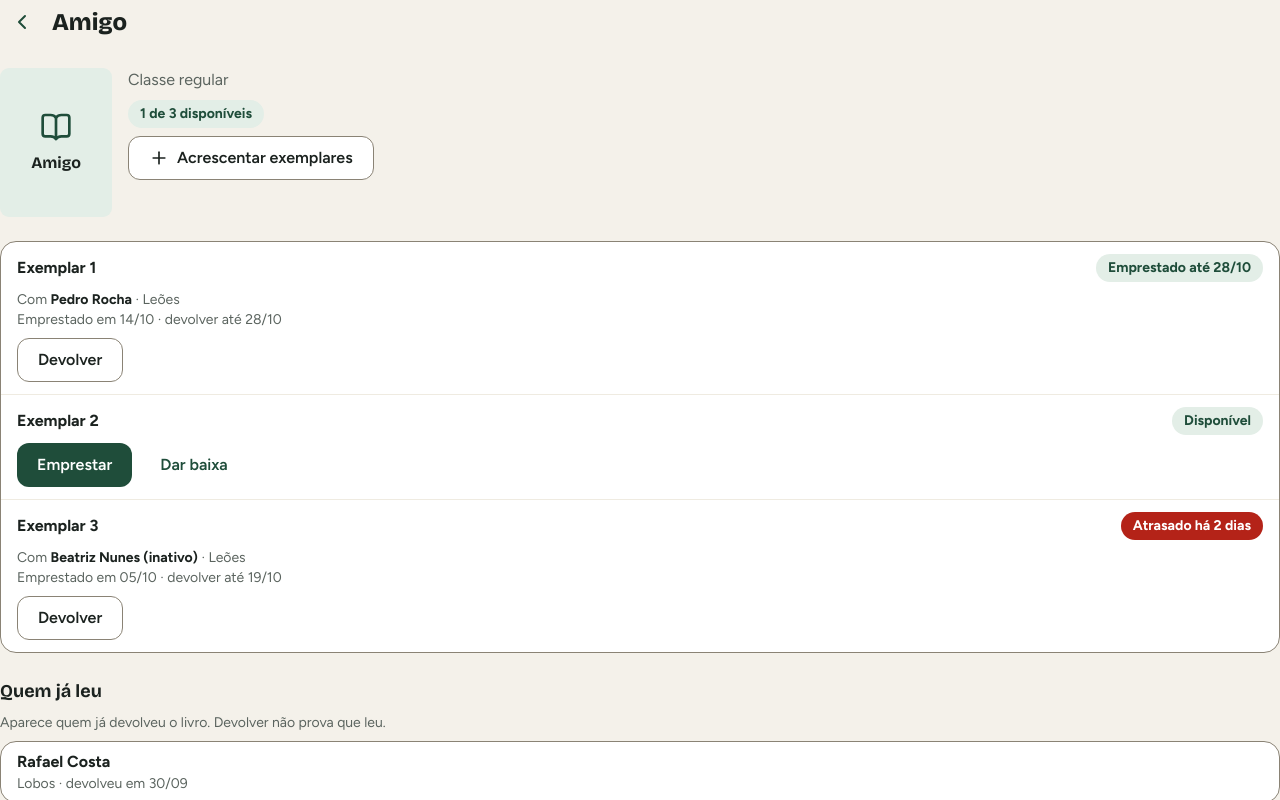
Test case: detalhe do livro › Dar baixa pede confirmação e só então grava
Click the button with aria-label "Dar baixa no exemplar 2" at (194, 465), box [140, 443, 248, 487]
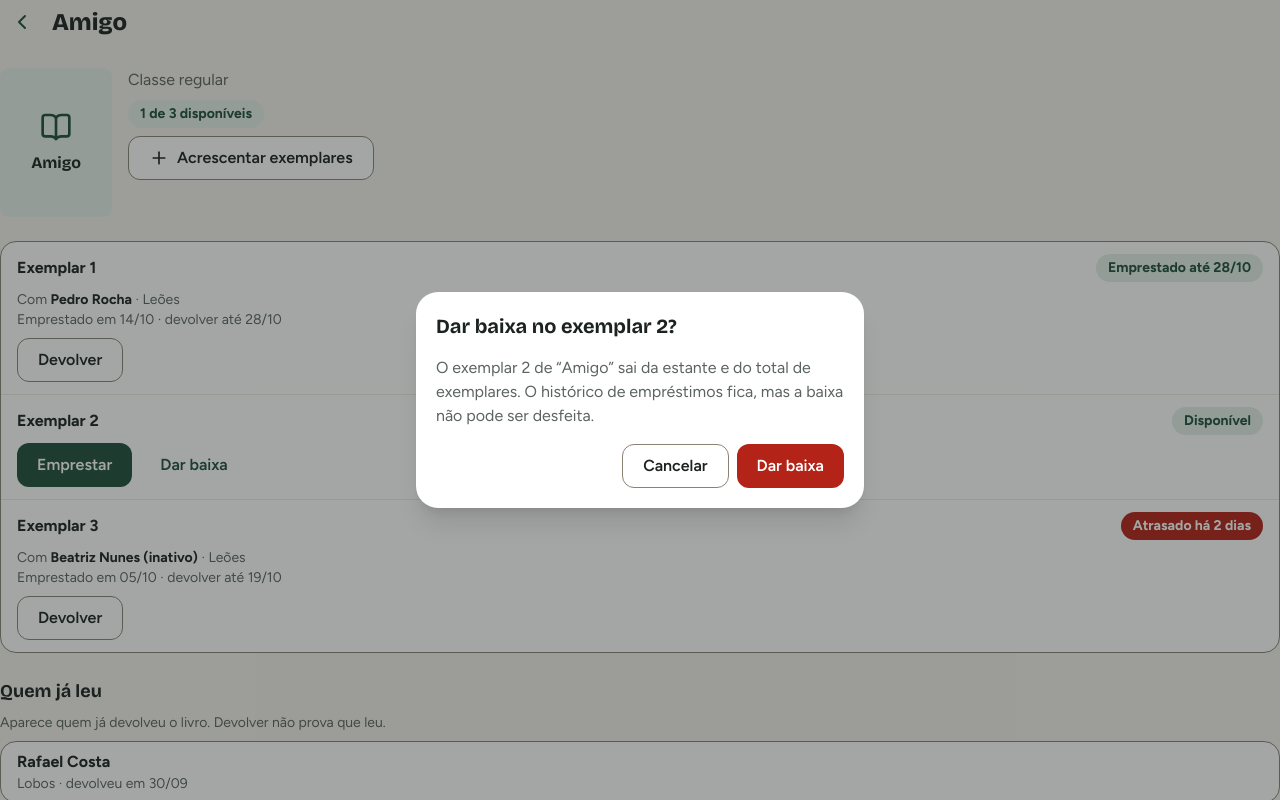
Click the button "Dar baixa" at (790, 466), box [737, 444, 844, 488]
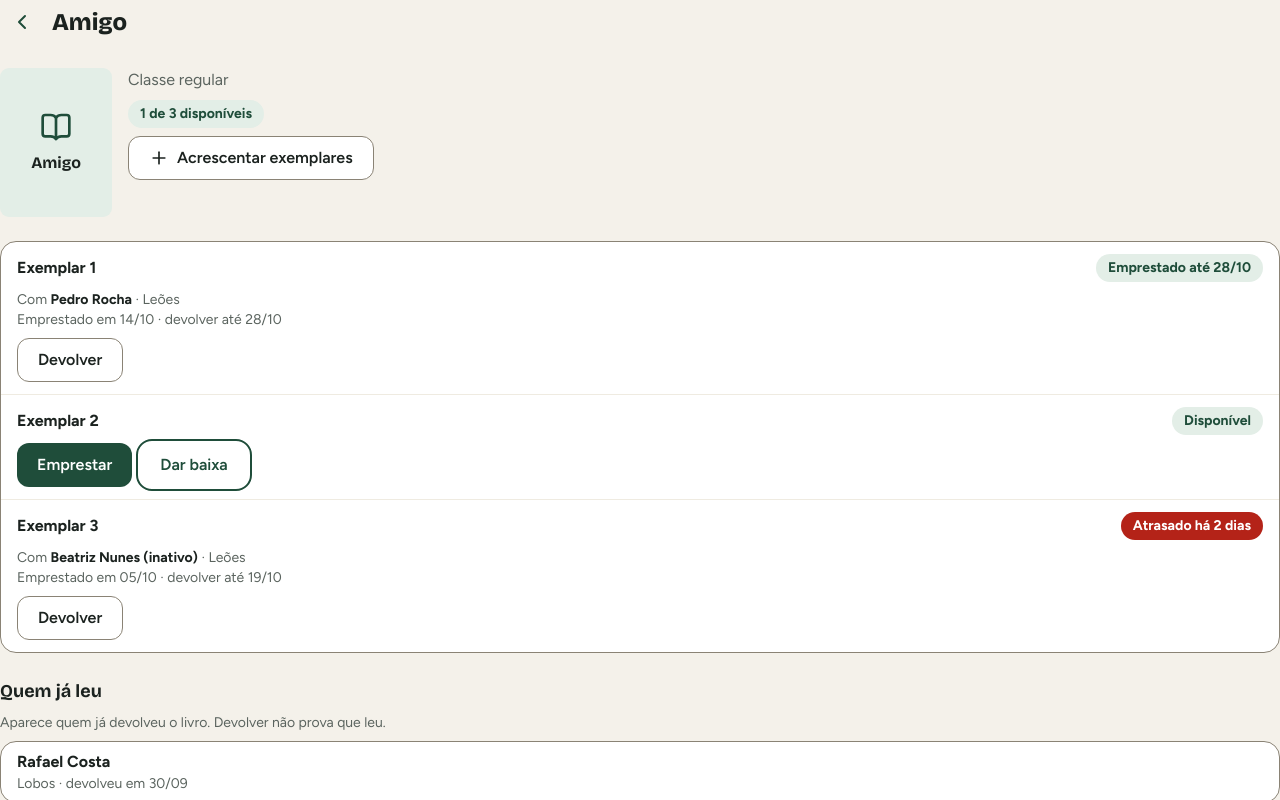
Result: the dialog is gone
